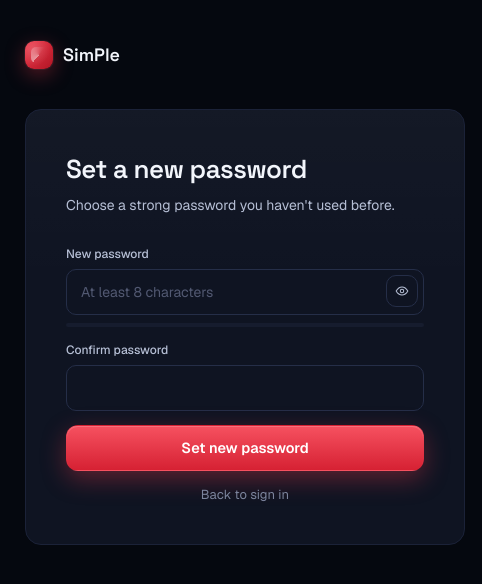
Test: ResetPasswordPage › shows error message on API failure
Step 1. Type "ValidPass1!" into the password field with placeholder "At least 8 characters" → (245, 292), box [66, 269, 424, 315]
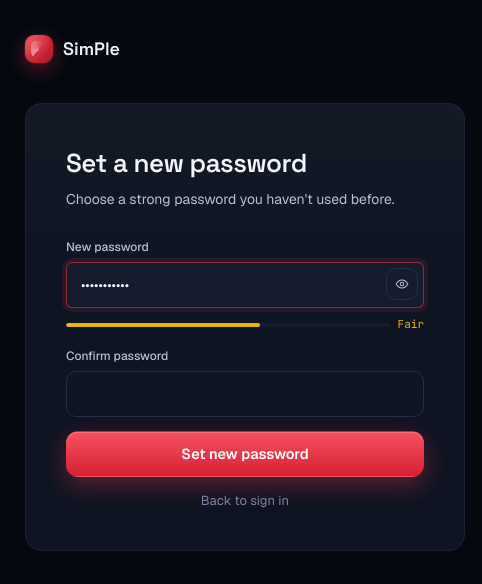
Step 2. Type "ValidPass1!" into the password field labelled "Confirm password" → (245, 394), box [66, 371, 424, 417]
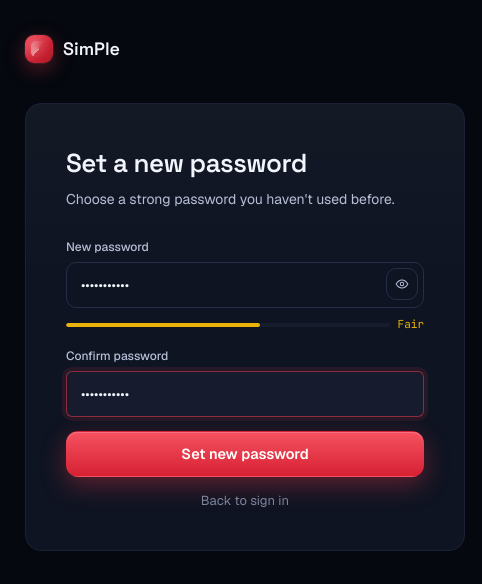
Step 3. Click the button "Set new password" → (245, 454), box [66, 431, 424, 477]
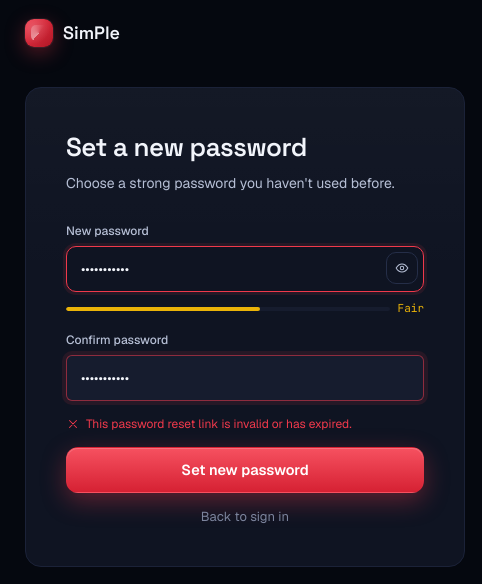
Result: the text "This password reset link is invalid or has expired." is shown at [66, 416, 352, 432]
